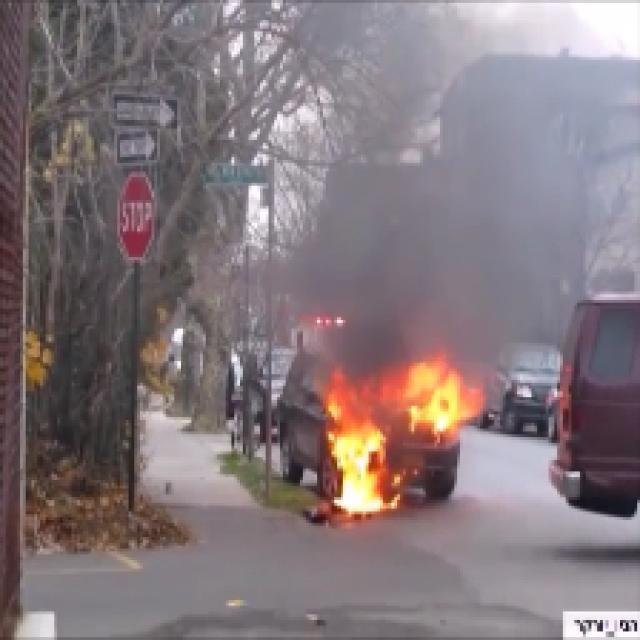Fire: (314, 372, 464, 508)
Smoke: (329, 157, 546, 371)
